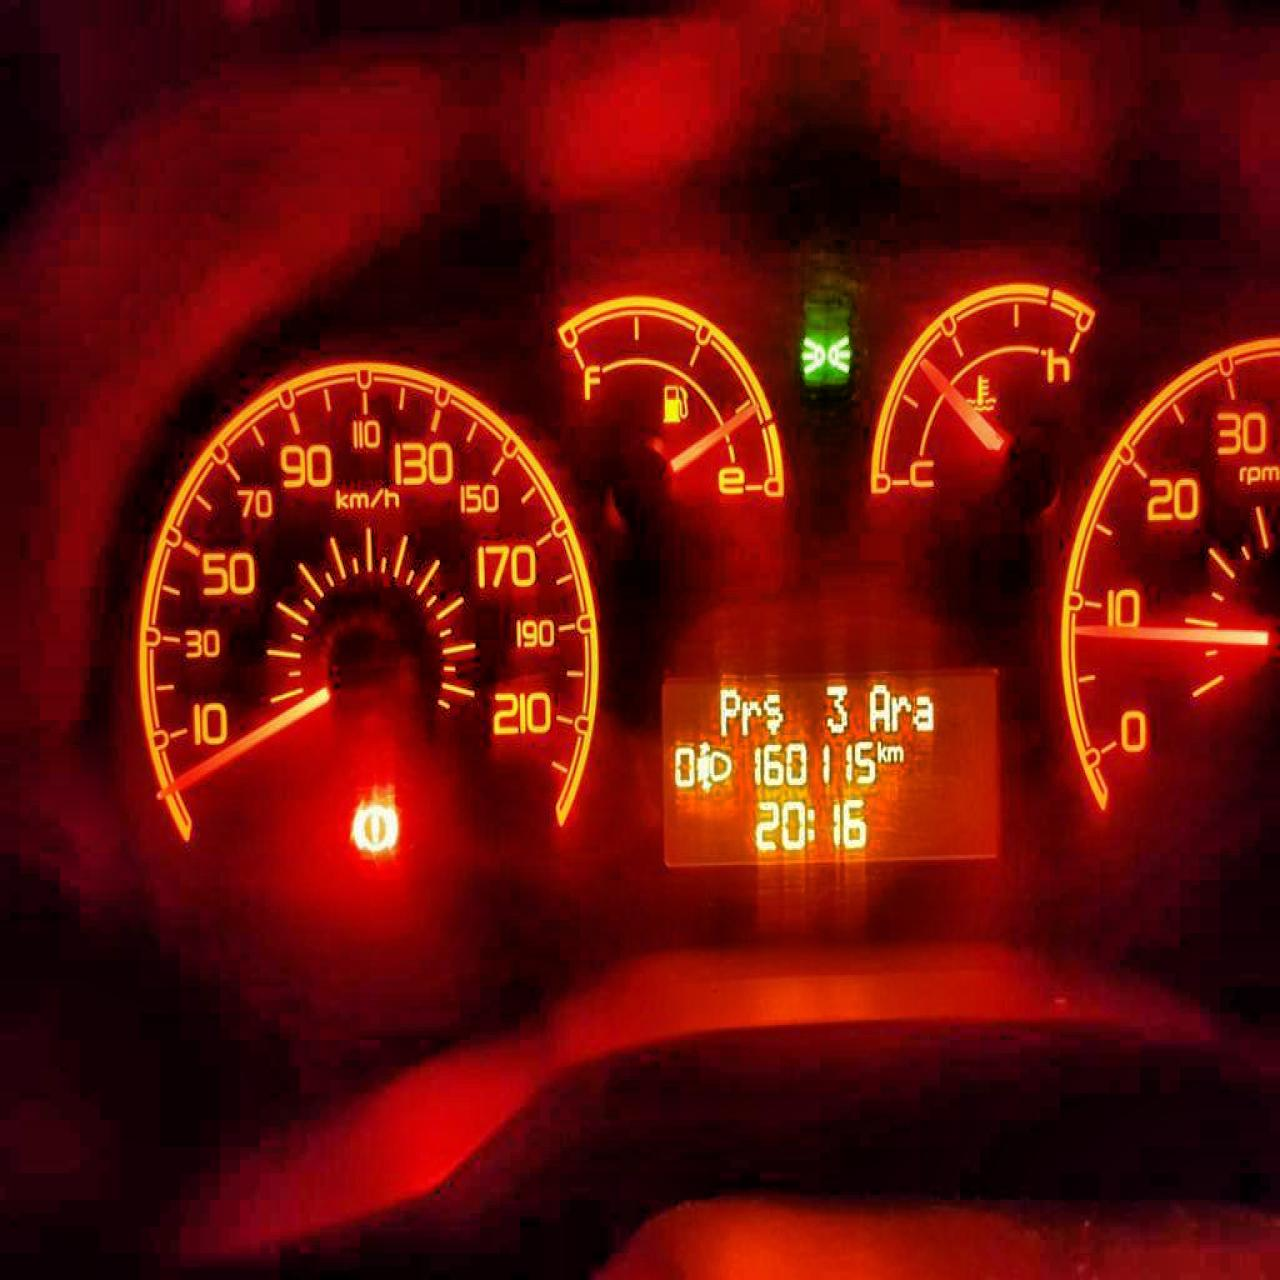0: (779, 798, 806, 852), (783, 741, 808, 787), (670, 742, 695, 788)
1: (829, 797, 840, 846), (821, 741, 831, 787), (750, 742, 761, 787), (843, 738, 852, 784)
2: (751, 797, 779, 851)
3: (821, 680, 850, 735)
5: (852, 736, 877, 787)
6: (840, 797, 866, 850), (761, 741, 784, 787)
X: (715, 683, 740, 738), (866, 682, 890, 734), (763, 688, 785, 737), (912, 692, 937, 734), (890, 692, 911, 734), (740, 696, 762, 735), (886, 742, 904, 763), (805, 805, 815, 843), (874, 738, 886, 762)
odometer: (654, 661, 1005, 871)
